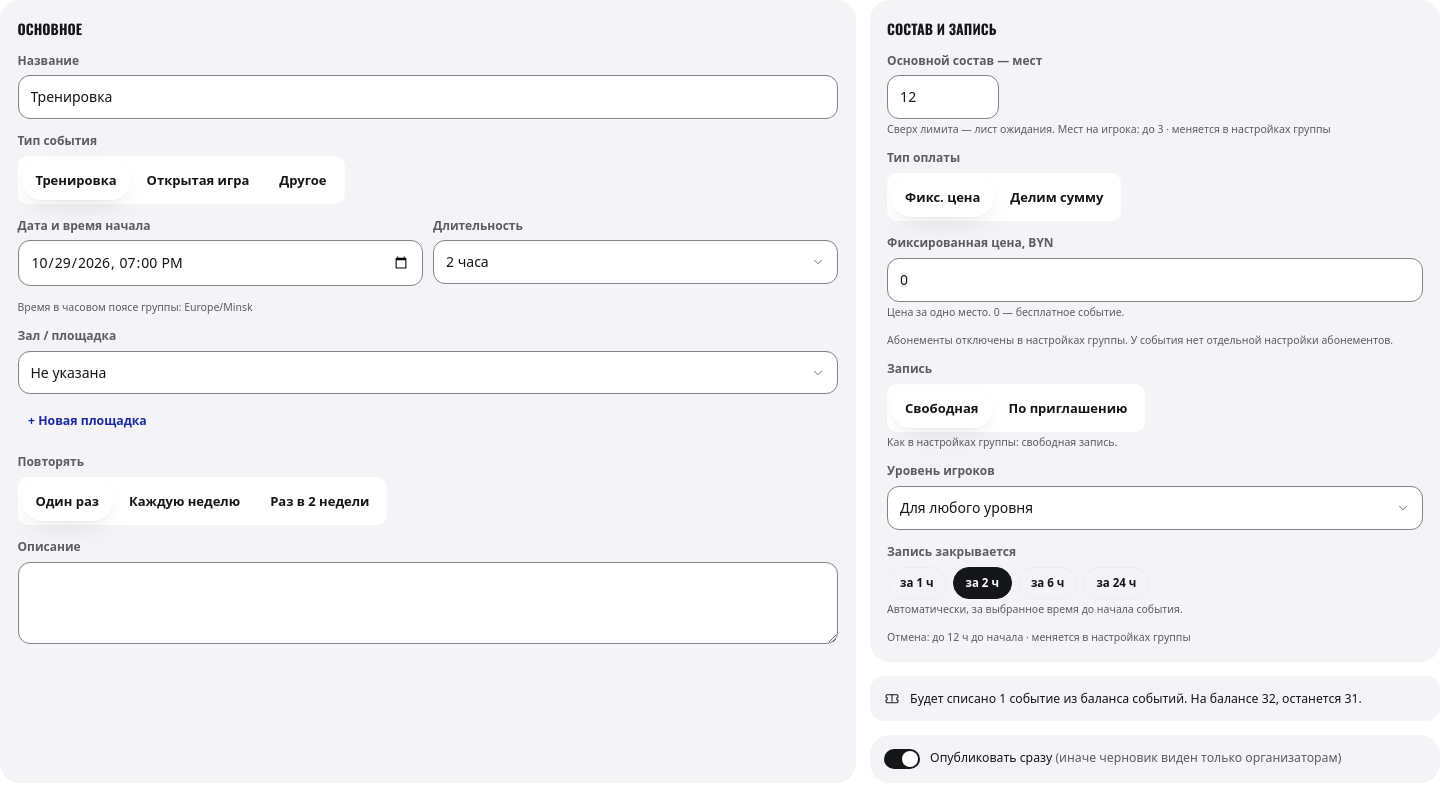
failures and in-flight requests › ignores a stale preview answer when the form changed while it was in flight
This screenshot has width=1440, height=786.
Replace the text in the field with id "ev-start" with "2030-06-08T19:00" at (220, 263), box [18,240,422,286]
Wait 400 ms
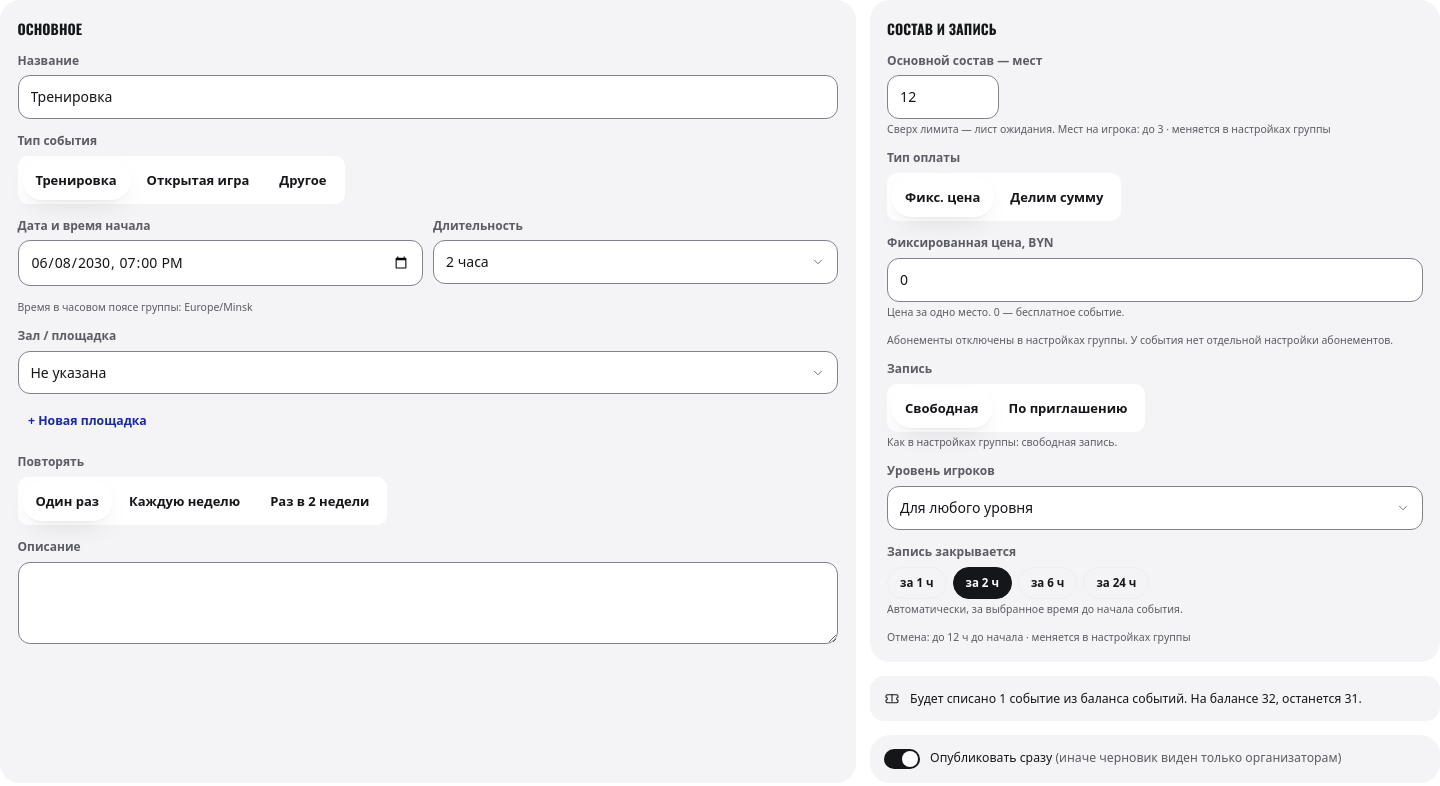
Click the radio button labelled "Каждую неделю".
click(185, 501)  # box [115,481,254,521]
Wait 400 ms
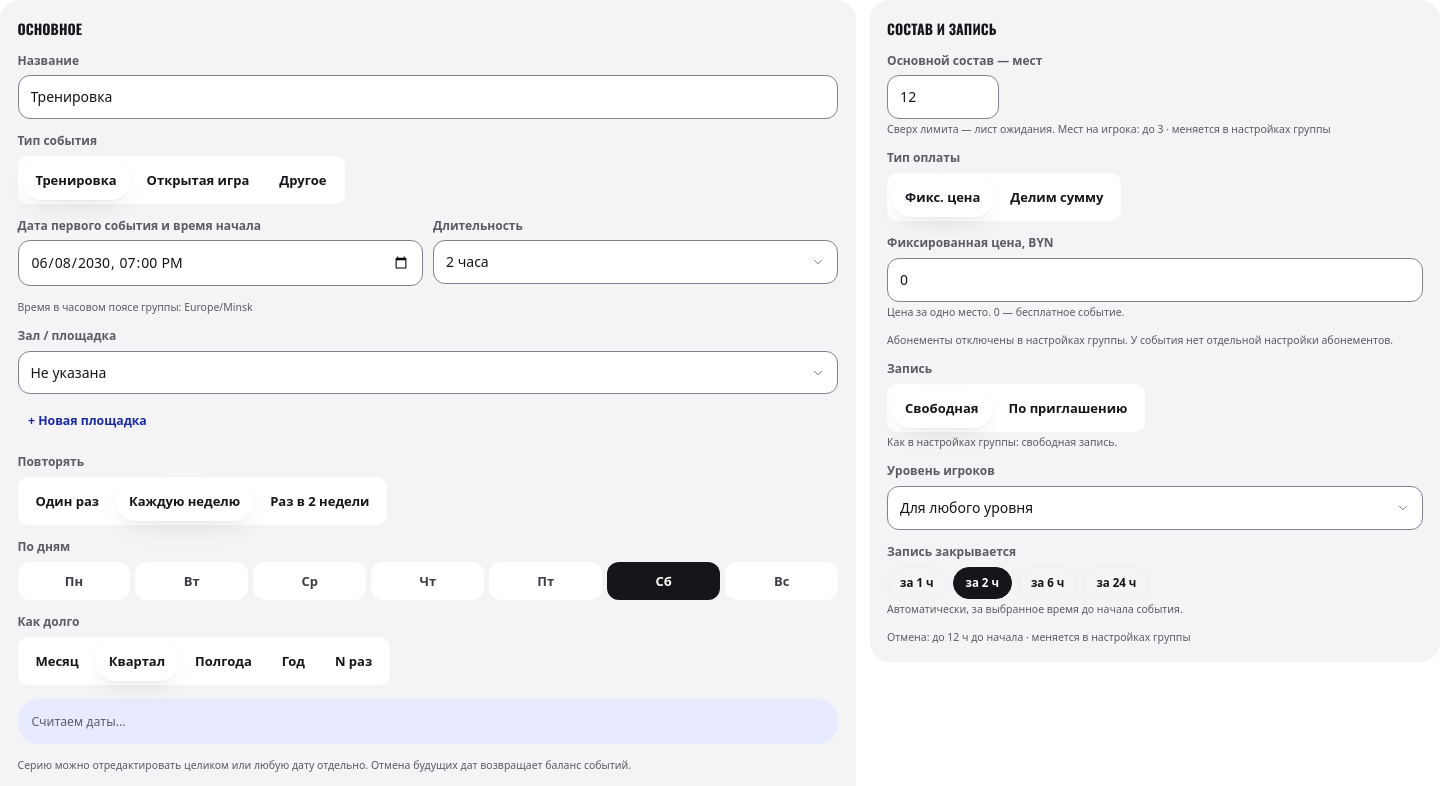
Replace the text in the number field with id "ev-cap" with "20" at (943, 97), box [887,75,999,119]
Wait 800 ms
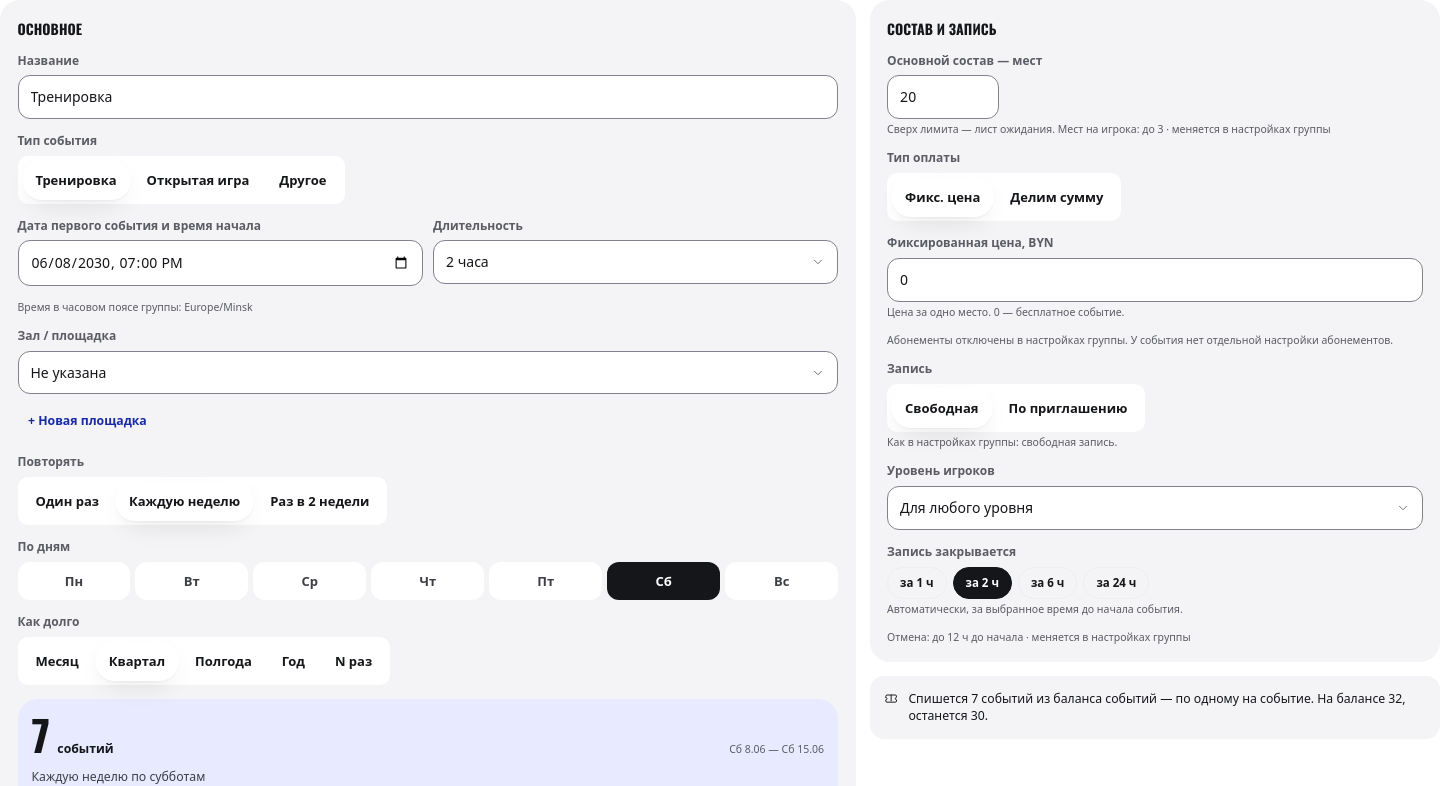
Check: the text with test id "series-total" reads "7", box [32,703,50,765]
